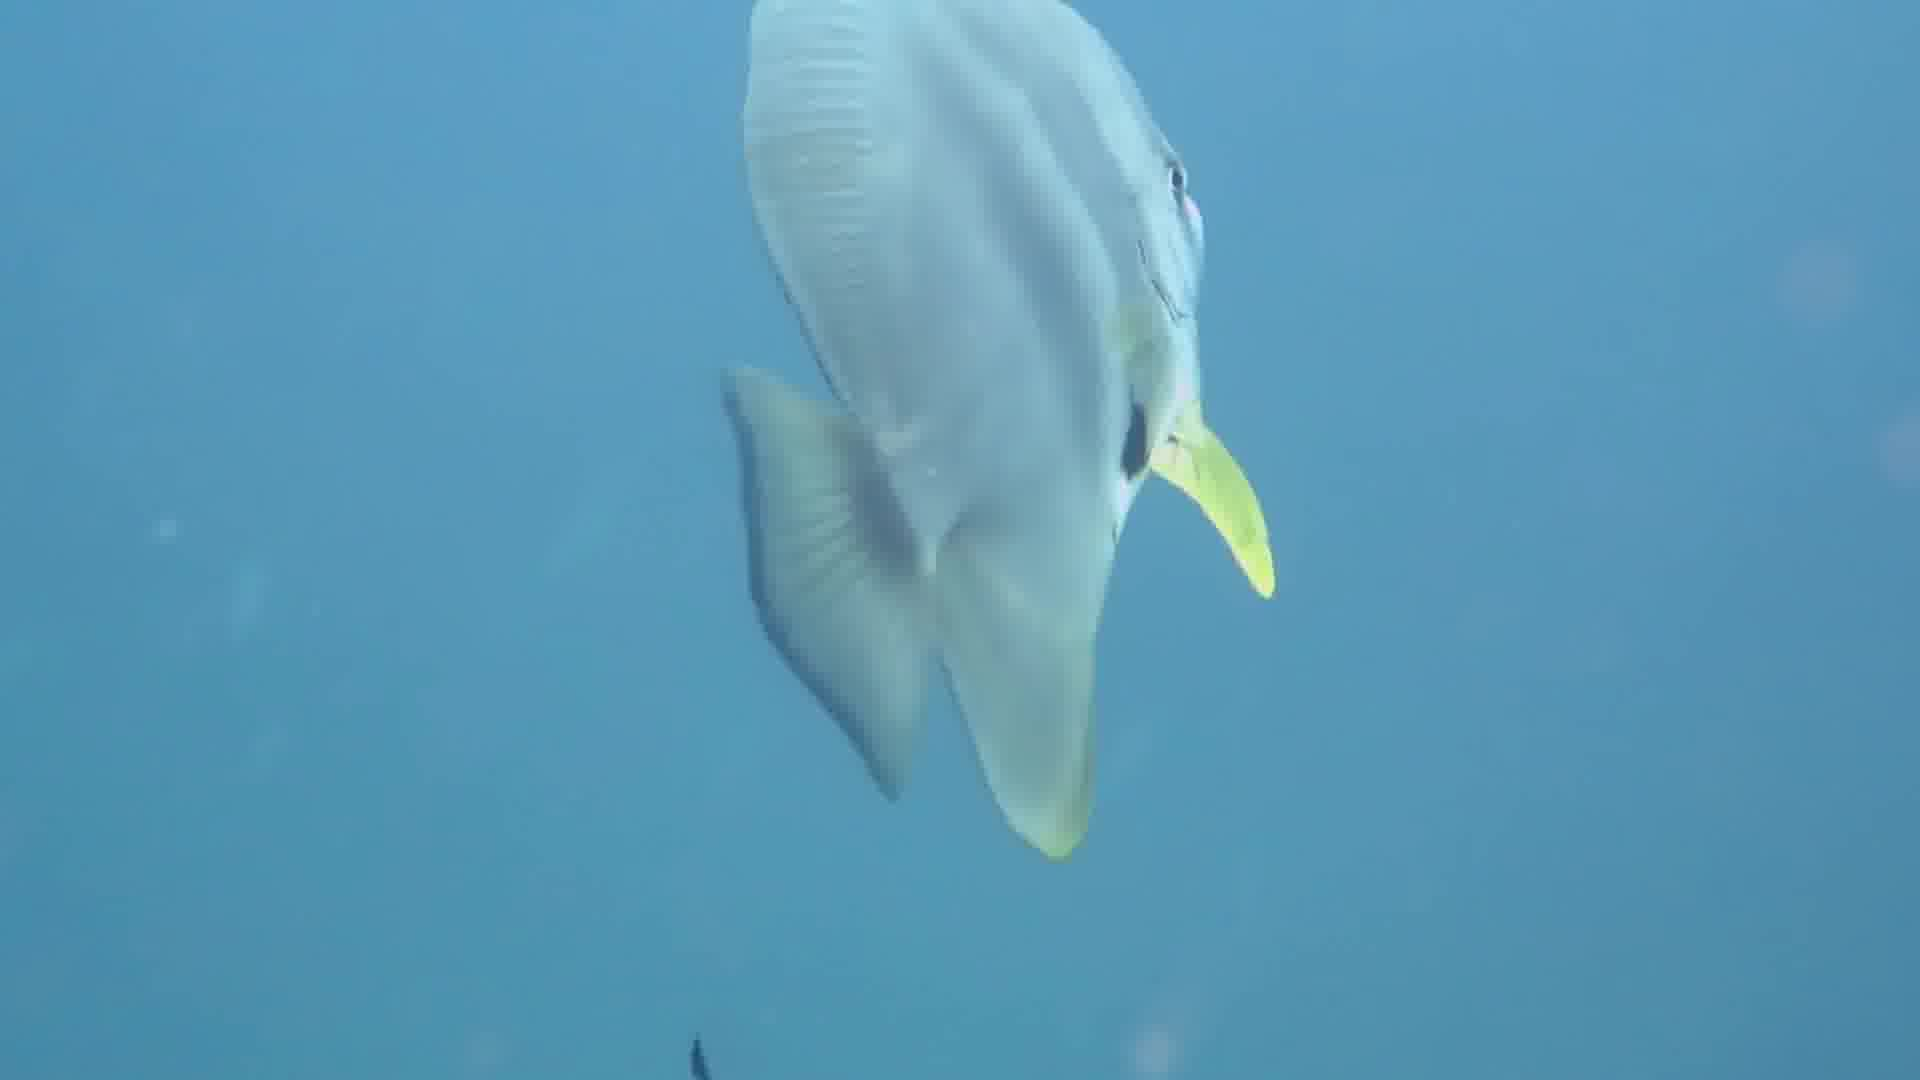Platax teira: (588, 1, 1458, 889)
